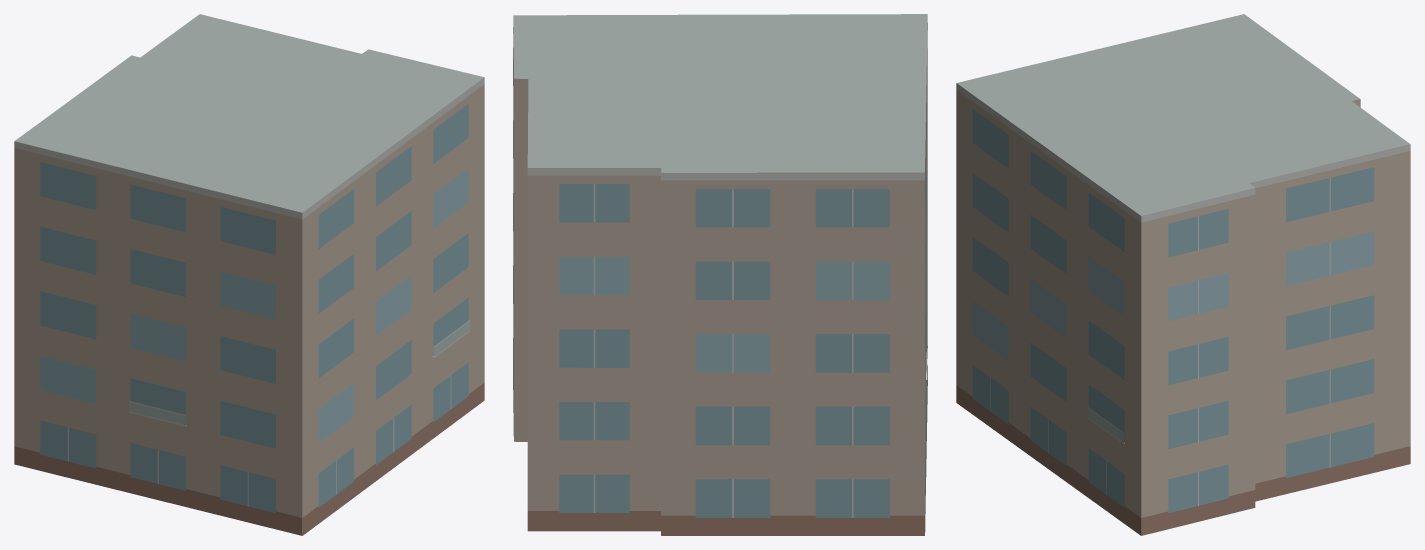
File: survey-upis-32696186.glb
The picture shows the model from 3 angles, left to right: view 1: azimuth 30°, elevation 25°; view 2: azimuth 150°, elevation 25°; view 3: azimuth 270°, elevation 25°; orthographic projection. The views are drawn at different scales.
Parts seen in each view (by area): view 1: survey-upis-32696186.tmp; view 2: survey-upis-32696186.tmp; view 3: survey-upis-32696186.tmp.
Boxes of the visible parts, left/top/right/bottom form: survey-upis-32696186.tmp: left=14, top=14, right=484, bottom=535; survey-upis-32696186.tmp: left=513, top=14, right=927, bottom=535; survey-upis-32696186.tmp: left=956, top=14, right=1410, bottom=535.
Bounding box in the file's own units: 15.87 × 11.7 × 15.07.
